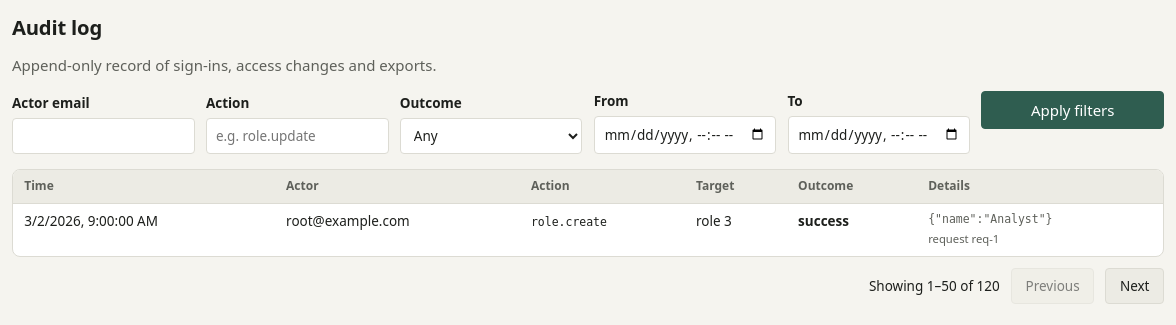
Test: AuditTab › paginates with offset
Expected: the text "Showing 1–50 of 120" is shown, [869, 276, 1000, 296]
Expected: the button "Previous" is disabled, [1011, 268, 1094, 304]
Click the button "Next": (1135,286) [1105, 268, 1164, 304]
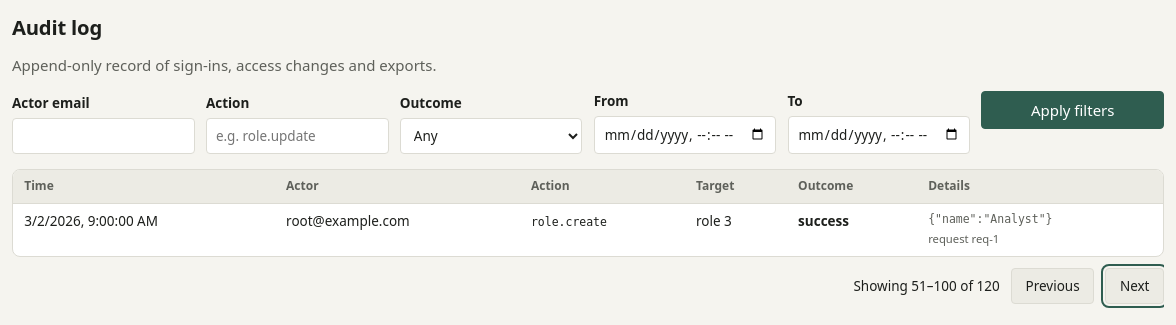
Result: the text "Showing 51–100 of 120" is shown at [853, 276, 1000, 296]
Click the button "Next": (1135,286) [1105, 268, 1164, 304]
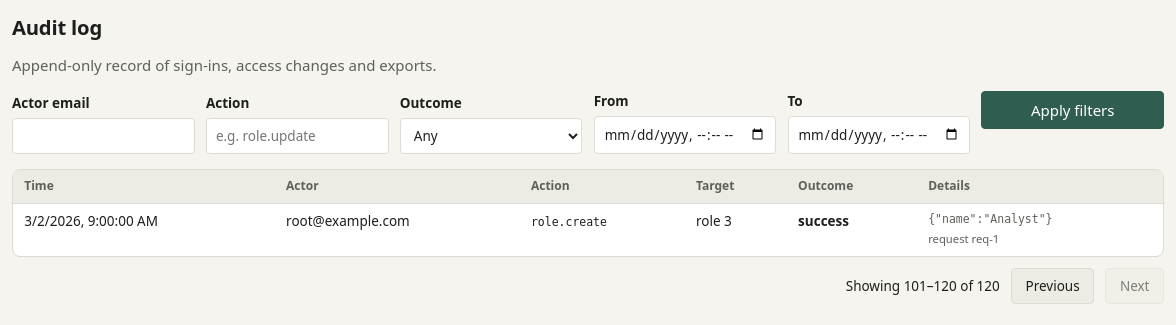
Result: the text "Showing 101–120 of 120" is shown at [846, 276, 1000, 296]
Result: the button "Next" is disabled at [1105, 268, 1164, 304]
